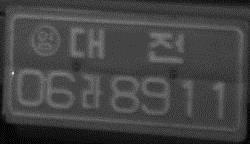0: (15, 66, 45, 107)
1: (208, 76, 227, 120), (181, 77, 196, 121)
6: (45, 68, 76, 109)
8: (108, 73, 140, 114)
9: (140, 75, 171, 116)
대전_D: (68, 24, 185, 66)
라: (78, 70, 104, 111)
영: (30, 23, 60, 56)
